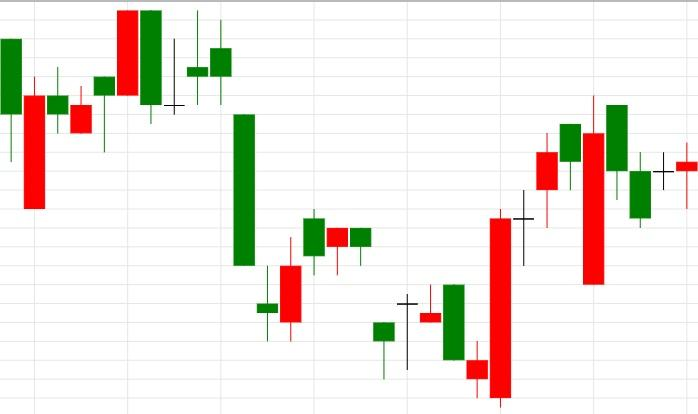bullish_engulfing_rise: (186, 10, 302, 342)
